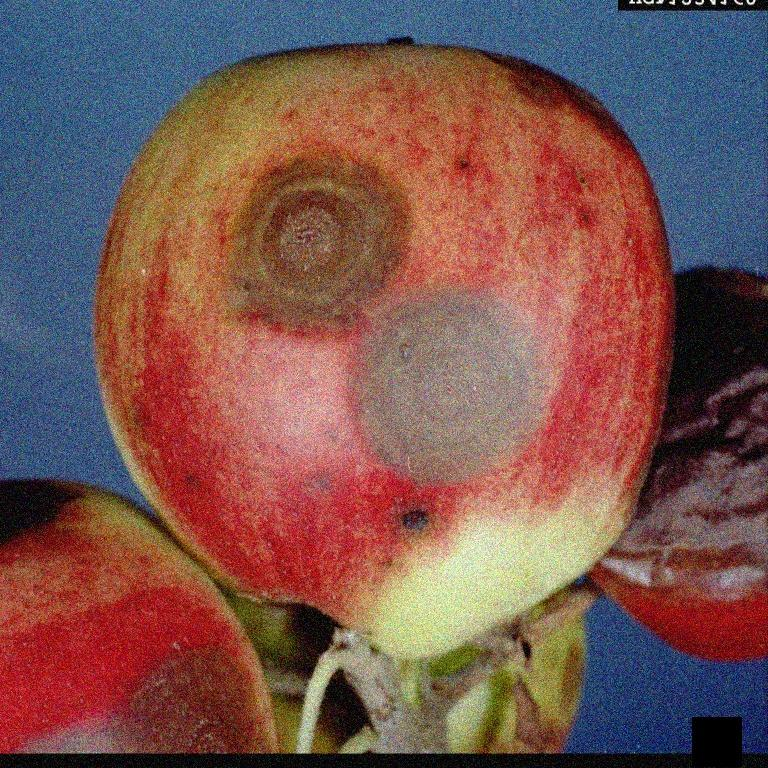rotten apple: (90, 36, 676, 647), (581, 258, 767, 677), (0, 480, 270, 752)
